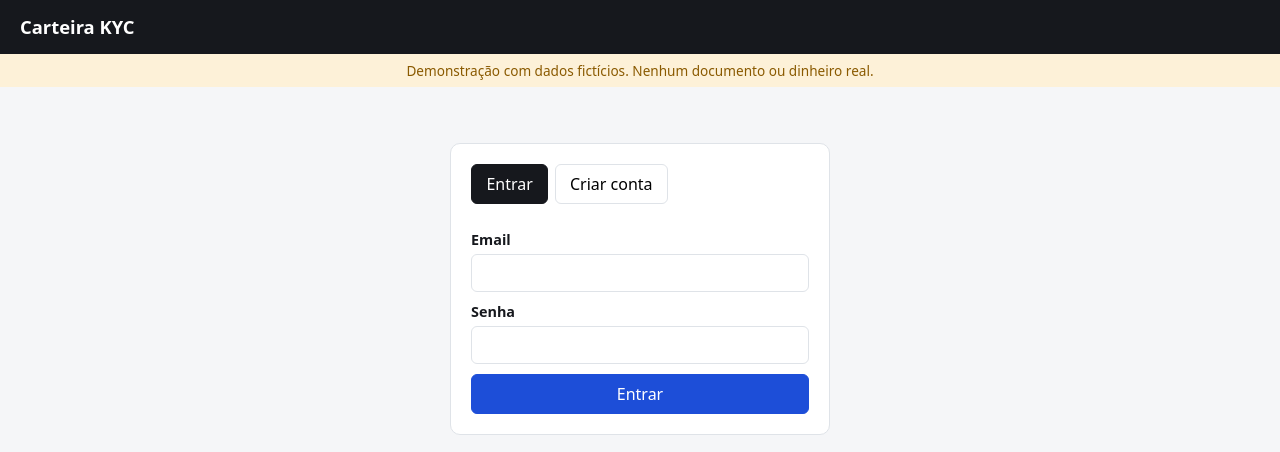
login › entra e mostra o painel do papel da pessoa
Type "operador@demo.local" into the field labelled "Email".
click(640, 273); type("operador@demo.local")  # box [471,254,809,292]
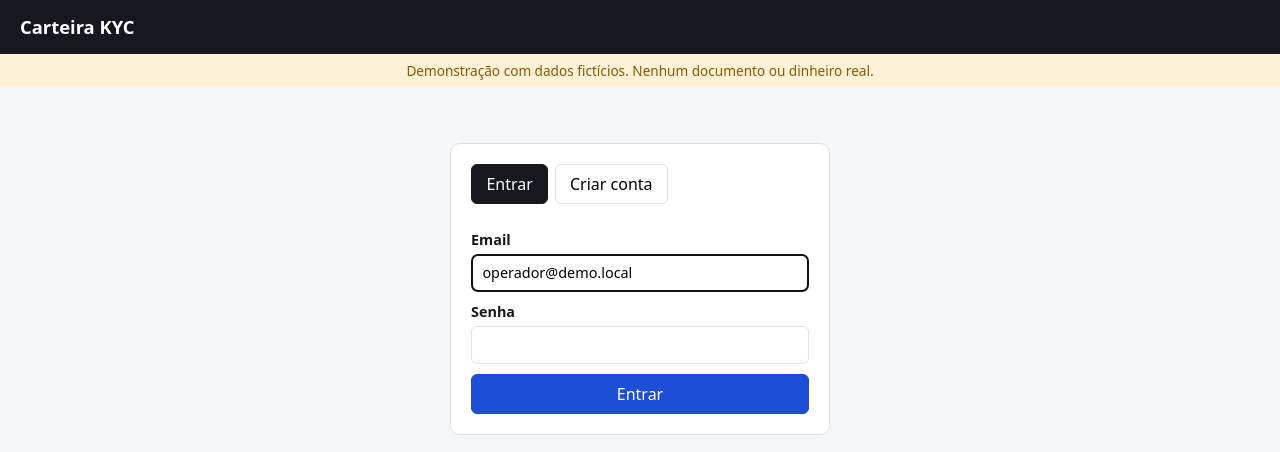
Type "qualquer" into the password field labelled "Senha".
click(640, 345); type("qualquer")  # box [471,326,809,364]
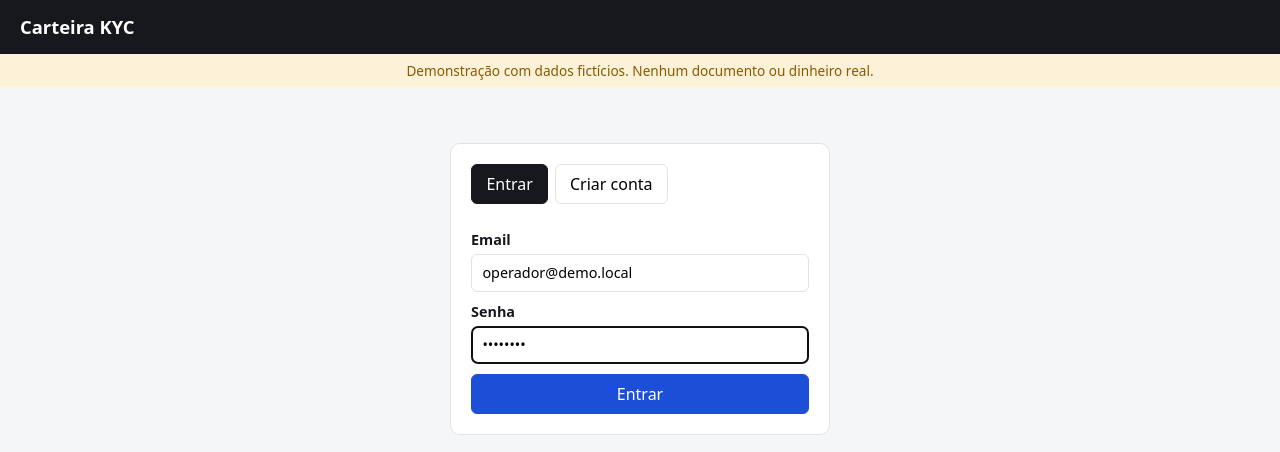
Click the button "Entrar".
click(640, 394)  # box [471,374,809,414]
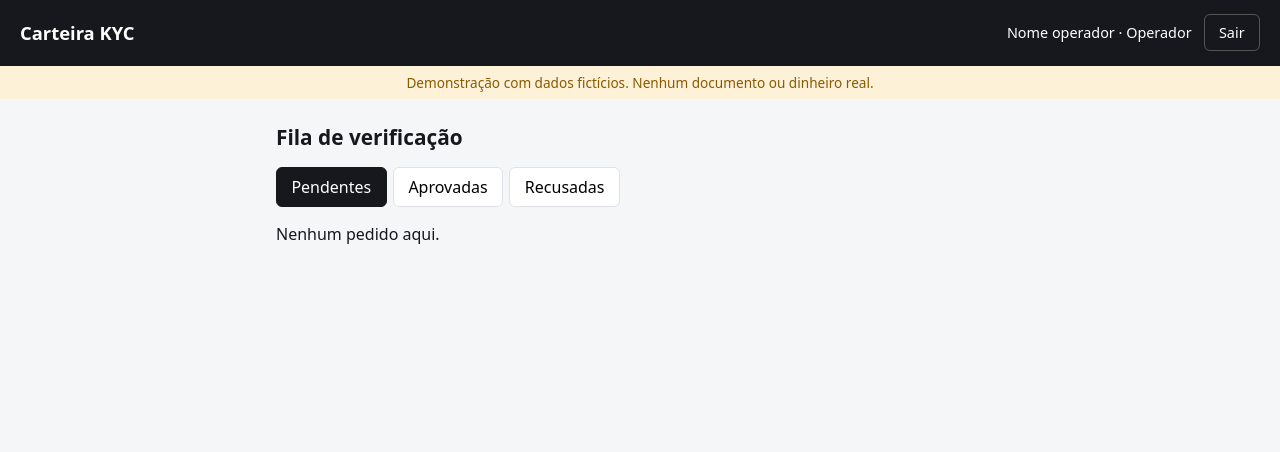
Expected: the heading "Fila de verificação" is shown, [276,123,463,151]
Expected: the text "Nome operador · Operador" is shown, [1007,23,1192,42]
